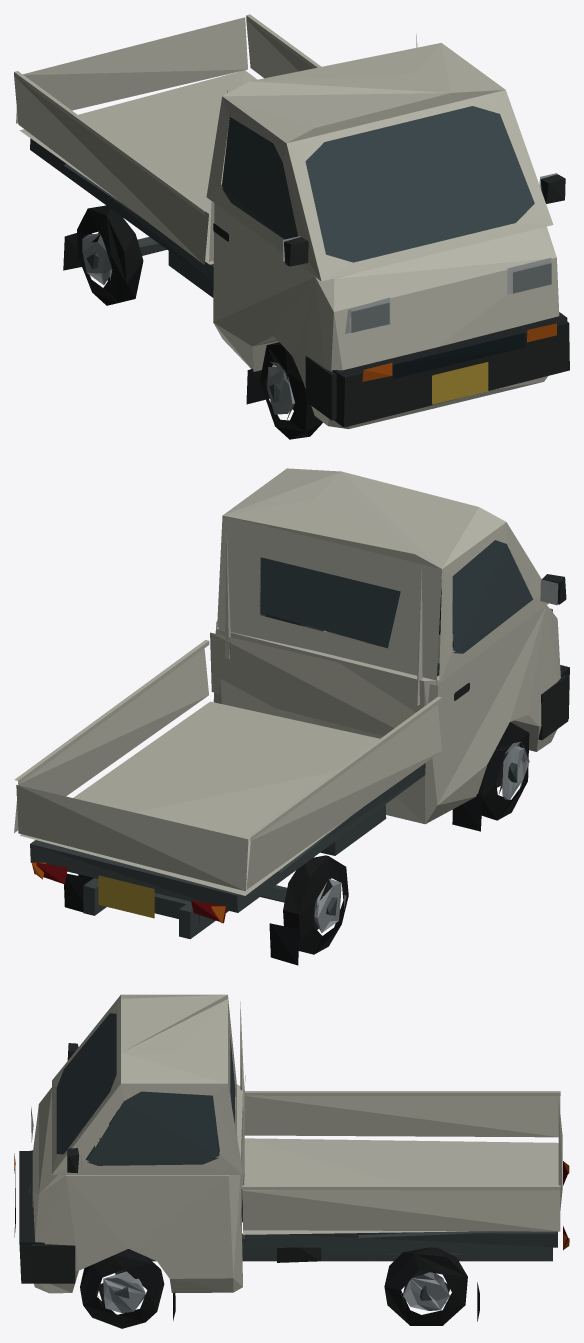
File: kei-truck-lod2.glb
3 views of the same model, one above another, from view 1: azimuth 30°, elevation 25°; view 2: azimuth 150°, elevation 25°; view 3: azimuth 270°, elevation 25° (orthographic). The views are drawn at different scales.
Visible parts, largest first — view 1: cab pressed lower shell; view 2: cab pressed lower shell; view 3: cab pressed lower shell.
Part boxes in pixels (x1,y1,x2,y2): cab pressed lower shell: (14, 14, 569, 439); cab pressed lower shell: (14, 468, 569, 965); cab pressed lower shell: (14, 994, 569, 1328).
Size of the model in its own units: 1.62 by 1.7 by 3.39.
